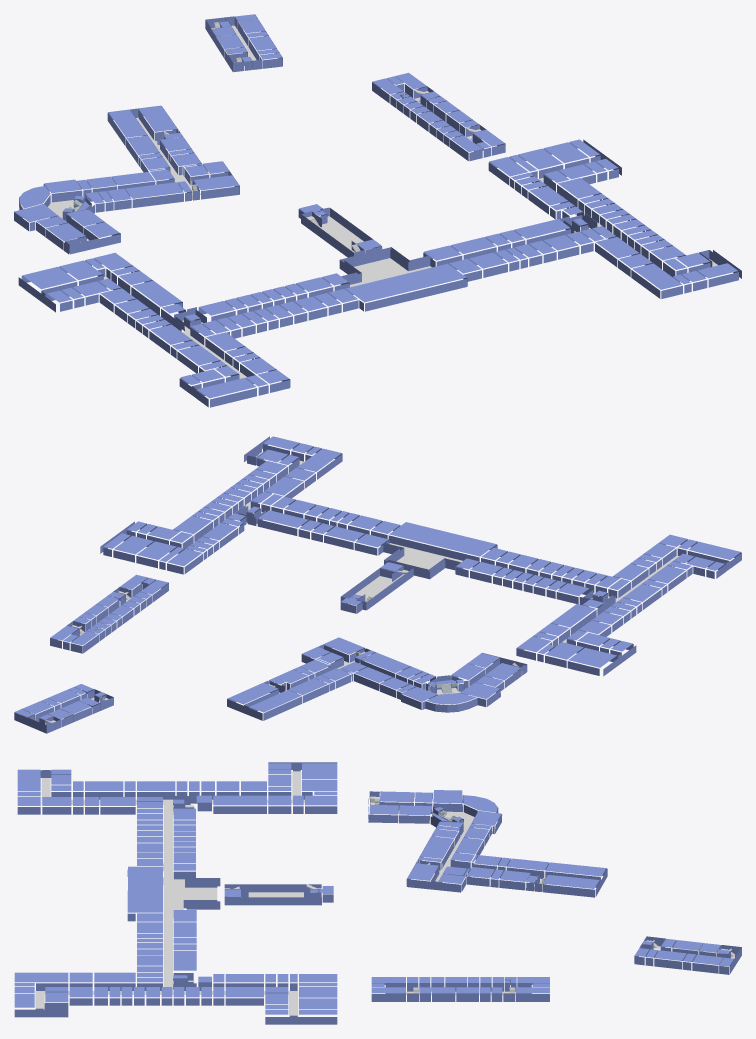
File: dstu_4.glb
3 renders of one model, top to bottom at view 1: azimuth 30°, elevation 25°; view 2: azimuth 150°, elevation 25°; view 3: azimuth 270°, elevation 25°, orthographic. The views are drawn at different scales.
Visible parts, largest first — view 1: 4, 64; view 2: 4, 64; view 3: 4, 64.
Part boxes in pixels (x1,y1,x2,y2): 4: (14,72,741,407); 64: (205,14,282,72); 4: (50,436,741,720); 64: (14,684,113,733); 4: (14,762,607,1024); 64: (634,936,741,974).
Bounding box in the file's own units: 197 × 4.83 × 238.
